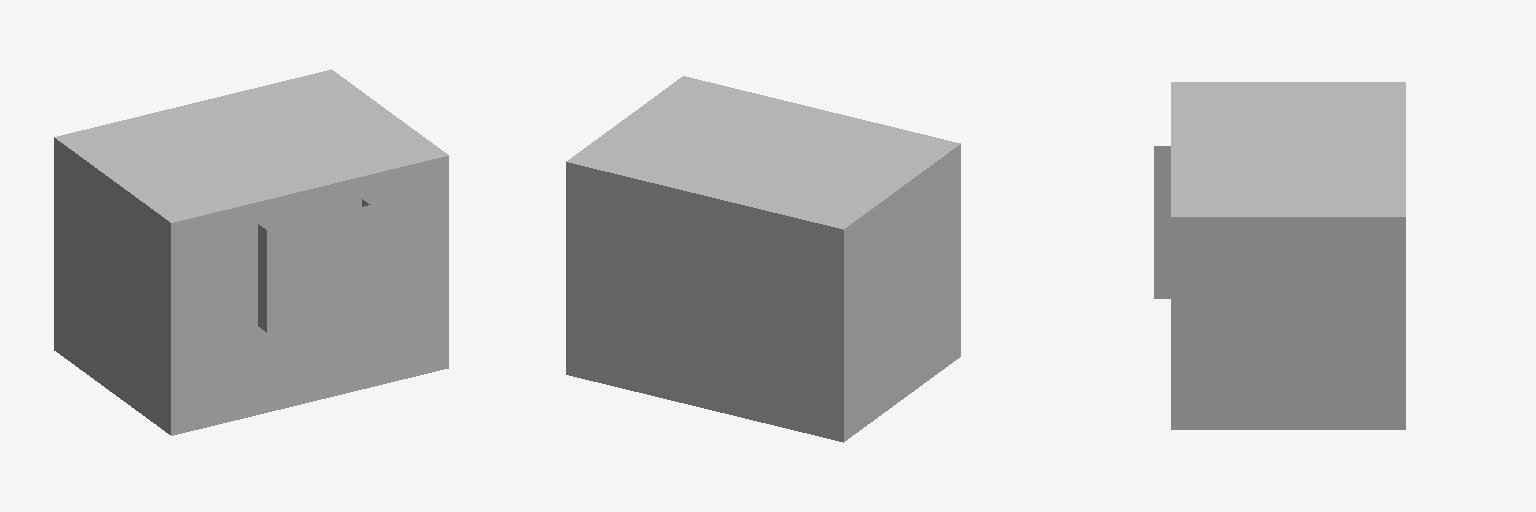
The model's file is Building1.obj.
The picture shows the model from 3 angles: view 1: azimuth 30°, elevation 25°; view 2: azimuth 150°, elevation 25°; view 3: azimuth 270°, elevation 25°; orthographic projection.
Visible parts, largest first — view 1: Building1_-col, Building1.008; view 2: Building1_-col; view 3: Building1_-col, Building1.008.
Part boxes in pixels (left/top/right/bottom): Building1_-col: left=54, top=69, right=448, bottom=435; Building1.008: left=258, top=199, right=369, bottom=332; Building1_-col: left=566, top=76, right=960, bottom=442; Building1_-col: left=1171, top=82, right=1405, bottom=429; Building1.008: left=1154, top=146, right=1170, bottom=298.
Bounding box in the file's own units: 9.49 × 6.95 × 7.48.